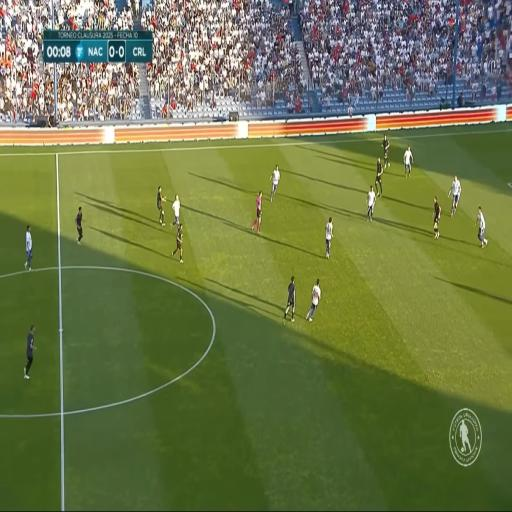Player: (308, 279, 321, 320), (25, 326, 35, 378), (286, 276, 297, 320), (477, 206, 487, 250), (25, 226, 34, 271), (451, 175, 460, 218), (271, 164, 281, 202), (325, 216, 333, 259), (367, 185, 376, 222), (158, 186, 166, 226), (177, 225, 185, 264), (76, 207, 84, 245), (376, 159, 384, 197), (383, 137, 391, 170), (434, 198, 440, 240), (405, 146, 412, 177), (173, 194, 179, 228)
Referee: (254, 192, 262, 234)
